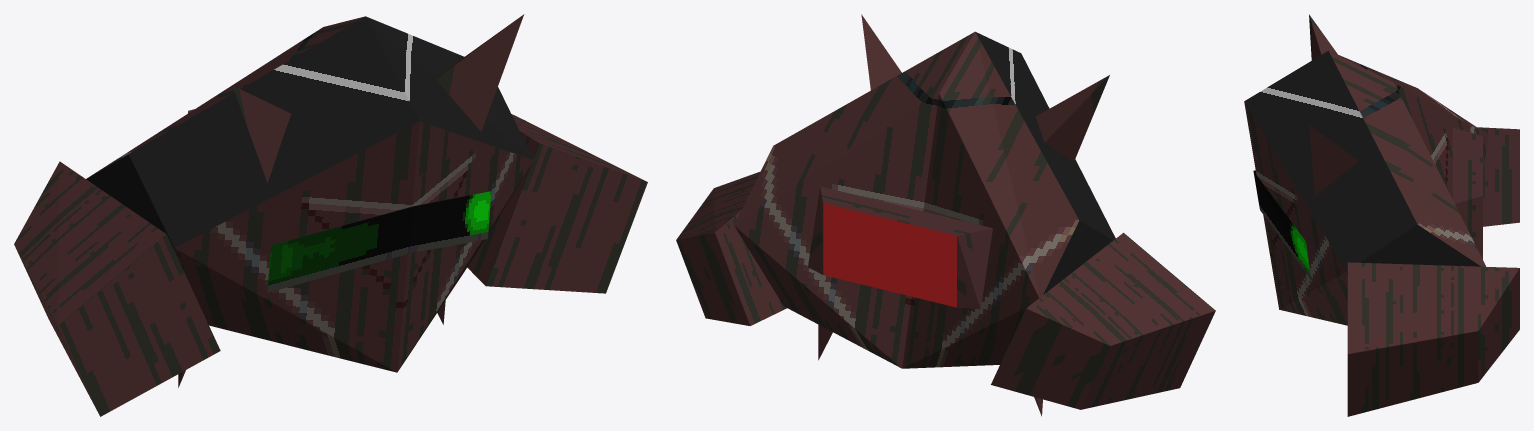
Rendered from model_044_robot_noname.glb.
3 views of the same model, side by side, from view 1: azimuth 30°, elevation 25°; view 2: azimuth 150°, elevation 25°; view 3: azimuth 270°, elevation 25° (orthographic). The views are drawn at different scales.
Parts seen in each view (by area): view 1: model_044; view 2: model_044; view 3: model_044.
Boxes of the visible parts, x1,y1,x2,y2 form: model_044: (14,14,647,416); model_044: (676,14,1215,416); model_044: (1244,14,1519,416).
Size of the model in its own units: 9 by 5.55 by 4.69.
6 materials, 6 textured.
